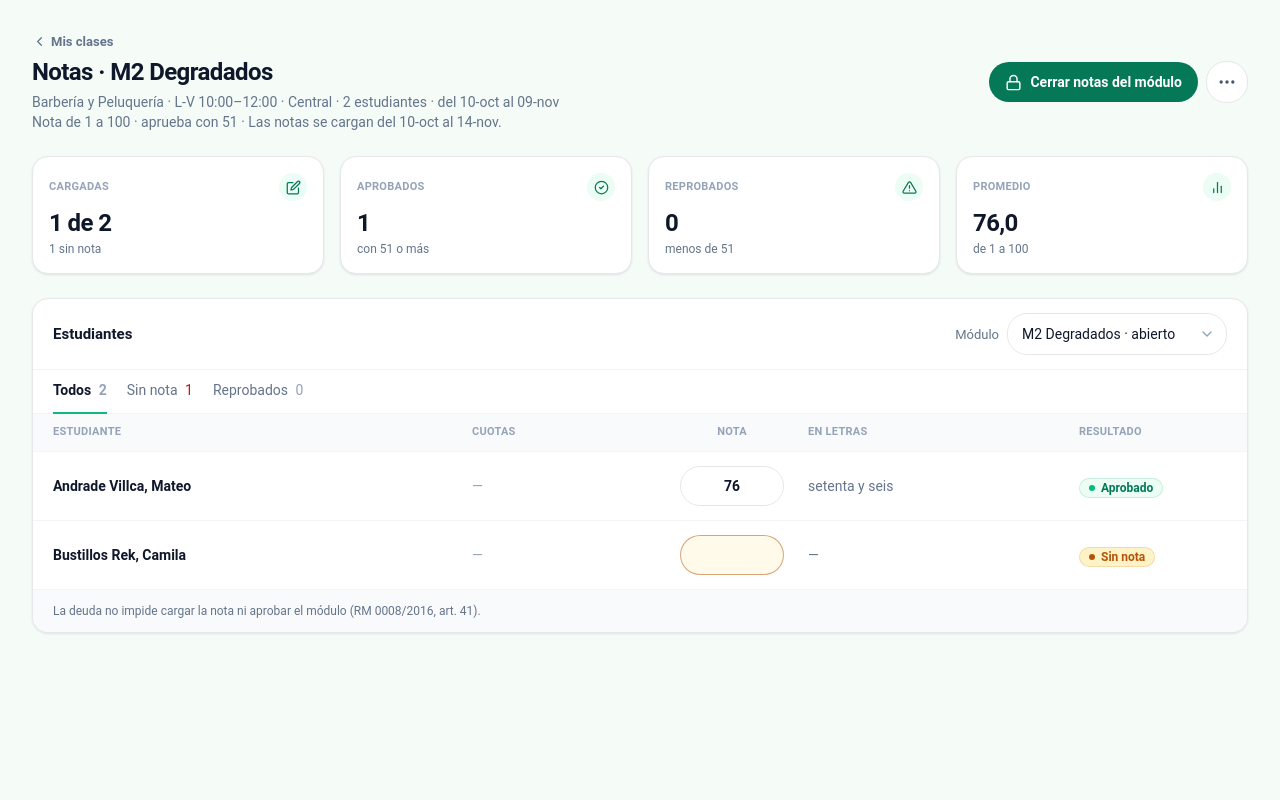
Test: L7 · Notas: borrador y «Guardar notas» › si el backend responde NOTA_INVALIDA, se marcan las casillas de su detalle
This screenshot has width=1280, height=800.
Type "55" into the field named "Nota de Bustillos Rek, Camila". click: (732,555)
box: [680,535,784,575]
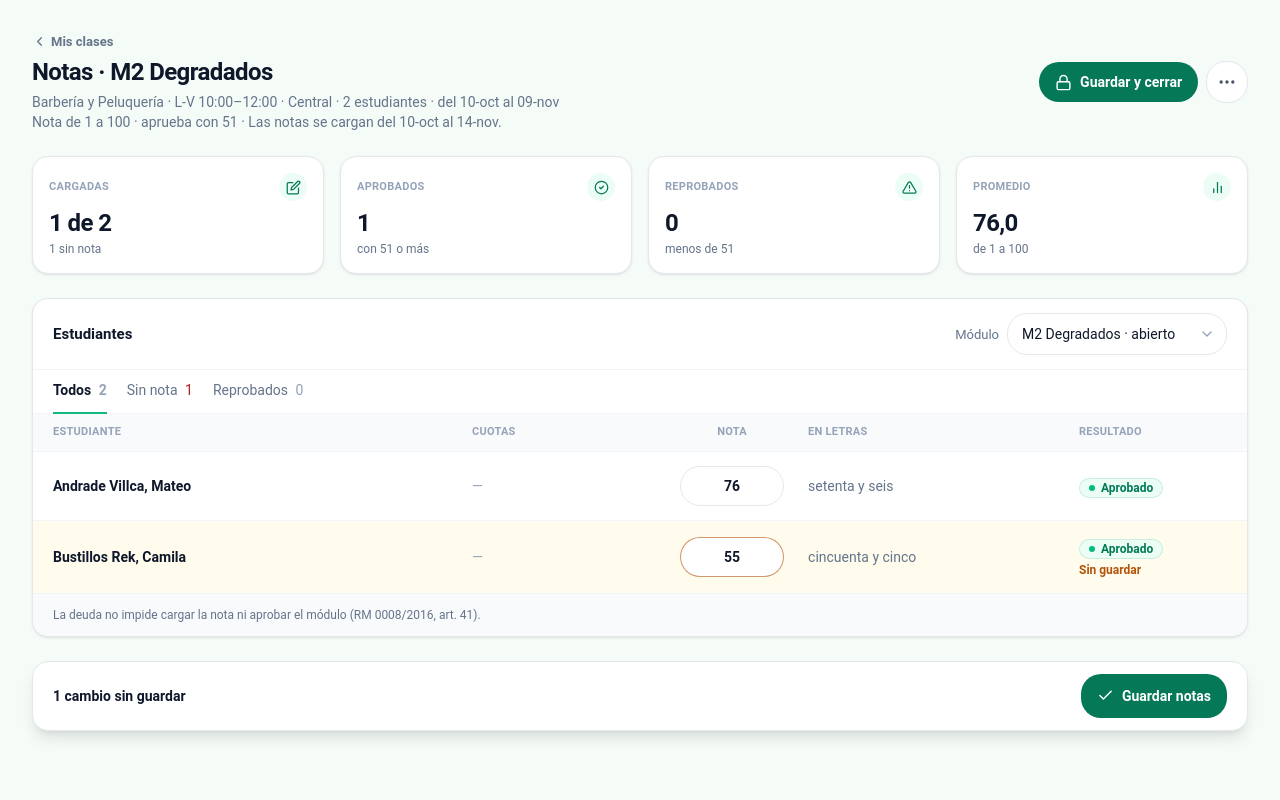
Click the button "Guardar notas". click: (1154,696)
box: [1081,674,1227,718]
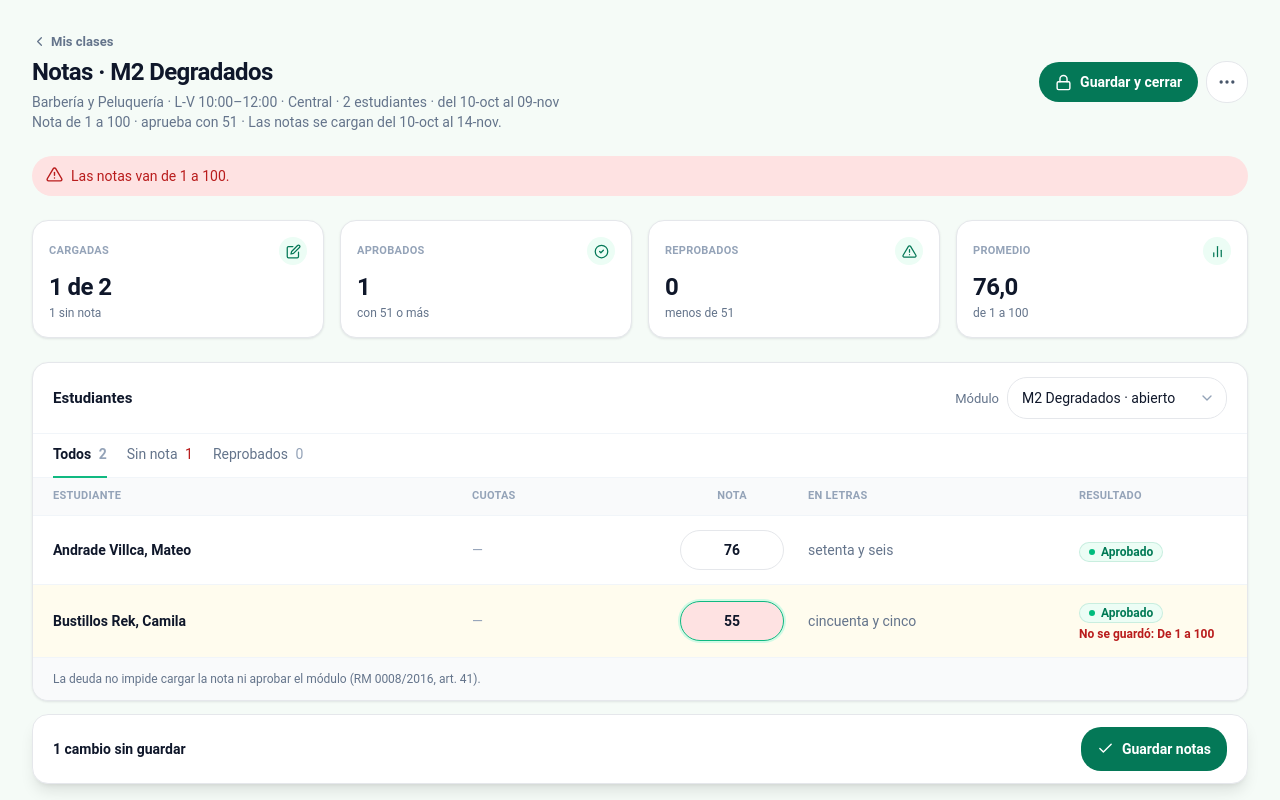
Expected: the text "No se guardó: De 1 a 100" is shown, [1079,625,1227,643]
Expected: the text "Las notas van de 1 a 100." is shown, [71,168,230,184]
